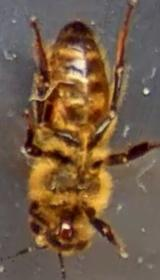varroa_mite: (42, 205, 92, 248)
